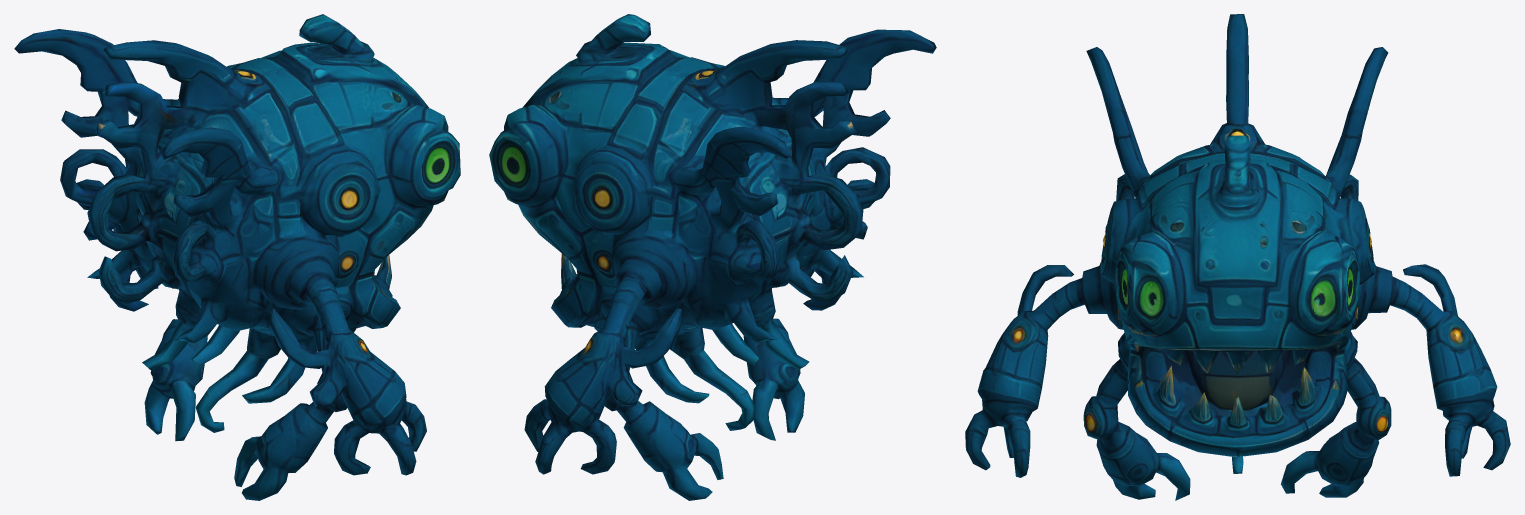
Rendered from roboticenemy01.fbx.
3 views of the same model, side by side, from view 1: azimuth 30°, elevation 25°; view 2: azimuth 150°, elevation 25°; view 3: azimuth 270°, elevation 25° (orthographic).
Parts seen in each view (by area): view 1: tripo_node_a02169c9; view 2: tripo_node_a02169c9; view 3: tripo_node_a02169c9.
Part boxes in pixels (bbox=[...]): tripo_node_a02169c9: bbox=[14, 14, 460, 500]; tripo_node_a02169c9: bbox=[489, 14, 936, 500]; tripo_node_a02169c9: bbox=[965, 14, 1510, 500].
Size of the model in its own units: 70 by 89.09 by 100.
Materials: 1 (1 with a texture image).
